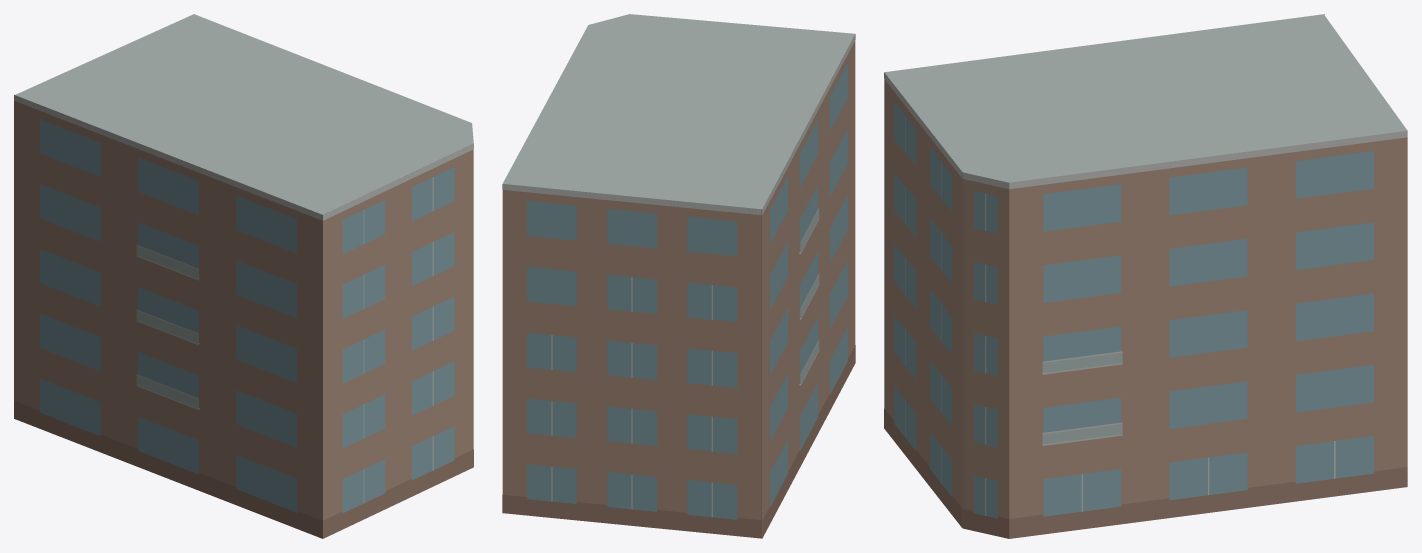
Rendered from survey-upis-32622183.glb.
3 renders of one model, left to right at view 1: azimuth 30°, elevation 25°; view 2: azimuth 150°, elevation 25°; view 3: azimuth 270°, elevation 25°, orthographic. The views are drawn at different scales.
Parts seen in each view (by area): view 1: survey-upis-32622183.tmp; view 2: survey-upis-32622183.tmp; view 3: survey-upis-32622183.tmp.
Boxes of the visible parts, x1,y1,x2,y2 form: survey-upis-32622183.tmp: (14,14,473,538); survey-upis-32622183.tmp: (502,14,855,538); survey-upis-32622183.tmp: (884,14,1407,538).
Size of the model in its own units: 13.52 by 13.3 by 17.73.
